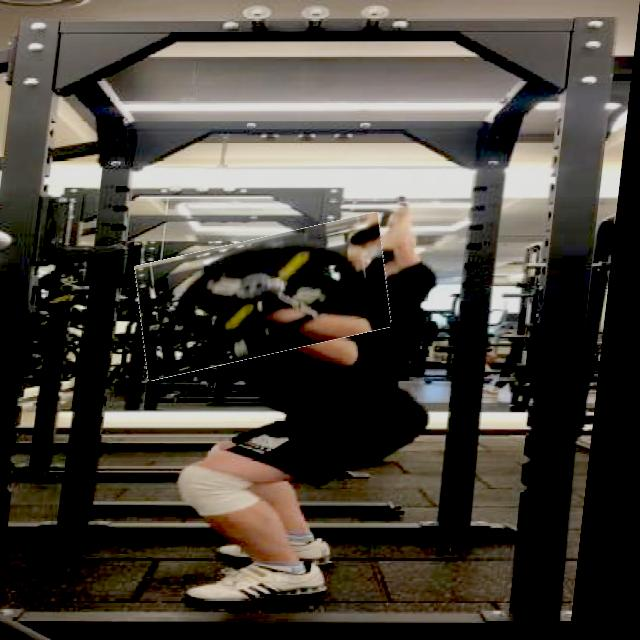barbell: (138, 227, 403, 370)
